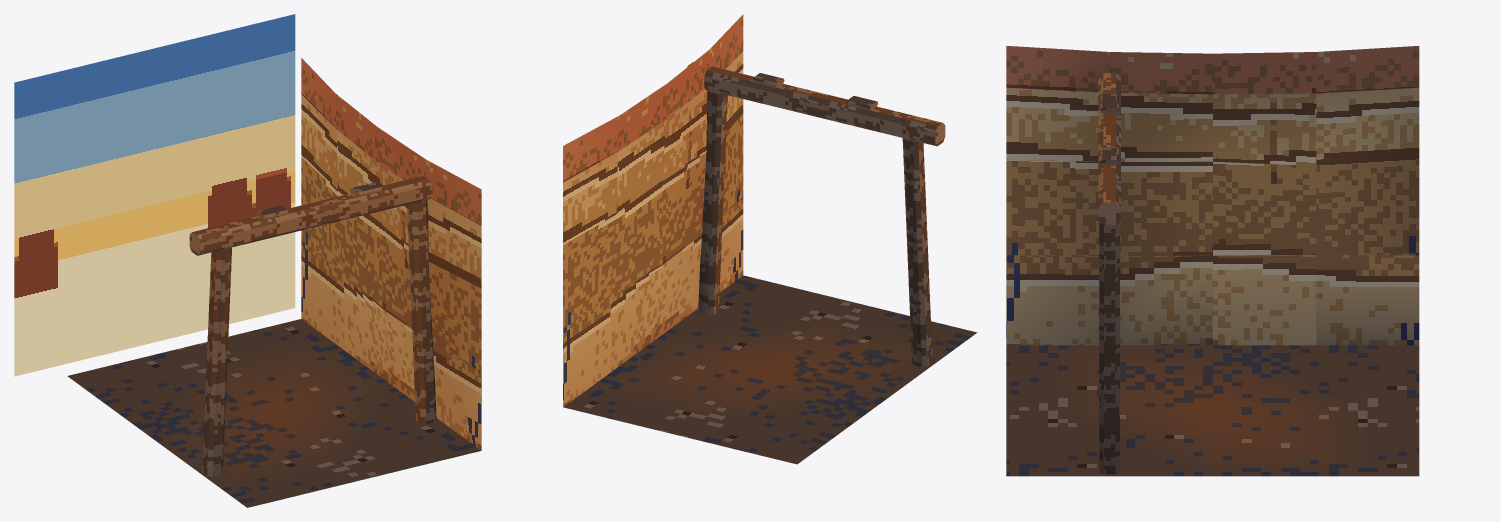
The model's file is wmine.tunnel__mouth.glb.
The picture shows the model from 3 angles, left to right: view 1: azimuth 30°, elevation 25°; view 2: azimuth 150°, elevation 25°; view 3: azimuth 270°, elevation 25°; orthographic projection. The views are drawn at different scales.
Visible parts, largest first — view 1: kit_card_depth, kit_shell_walls, kit_shell_floor, kit_sets, kit_caps, kit_wedges; view 2: kit_shell_walls, kit_shell_floor, kit_sets, kit_caps, kit_wedges; view 3: kit_shell_walls, kit_shell_floor, kit_sets, kit_caps, kit_wedges.
Boxes of the visible parts, x1,y1,x2,y2 form: kit_card_depth: [14, 14, 295, 376]; kit_shell_walls: [301, 58, 481, 450]; kit_shell_floor: [67, 319, 481, 507]; kit_sets: [202, 200, 436, 476]; kit_caps: [189, 176, 431, 255]; kit_wedges: [256, 182, 381, 220]; kit_shell_walls: [563, 14, 743, 406]; kit_shell_floor: [563, 275, 977, 464]; kit_sets: [698, 90, 932, 367]; kit_caps: [687, 62, 945, 146]; kit_wedges: [752, 73, 877, 110]; kit_shell_walls: [1006, 45, 1419, 345]; kit_shell_floor: [1006, 345, 1419, 476]; kit_sets: [1099, 222, 1119, 474]; kit_caps: [1098, 72, 1120, 224]; kit_wedges: [1100, 94, 1118, 165].
Size of the model in its own units: 3.6 by 3.6 by 4.65.
Materials: 6 (6 with a texture image).
